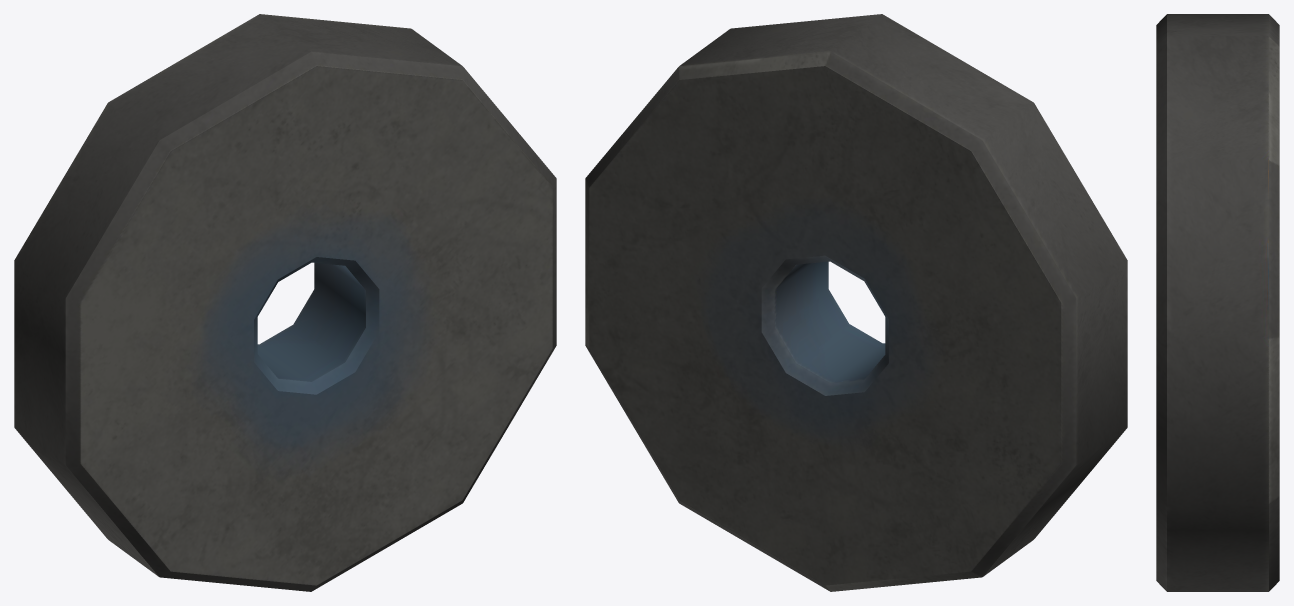
Rendered from bycle.fbx.
The picture shows the model from 3 angles, left to right: view 1: azimuth 30°, elevation 25°; view 2: azimuth 150°, elevation 25°; view 3: azimuth 270°, elevation 25°; orthographic projection.
Visible parts, largest first — view 1: bycle; view 2: bycle; view 3: bycle.
Part boxes in pixels (x1,y1,x2,y2): bycle: (14, 14, 556, 591); bycle: (585, 14, 1127, 591); bycle: (1156, 14, 1279, 591).
Bounding box in the file's own units: 260 × 273 × 57.22.
